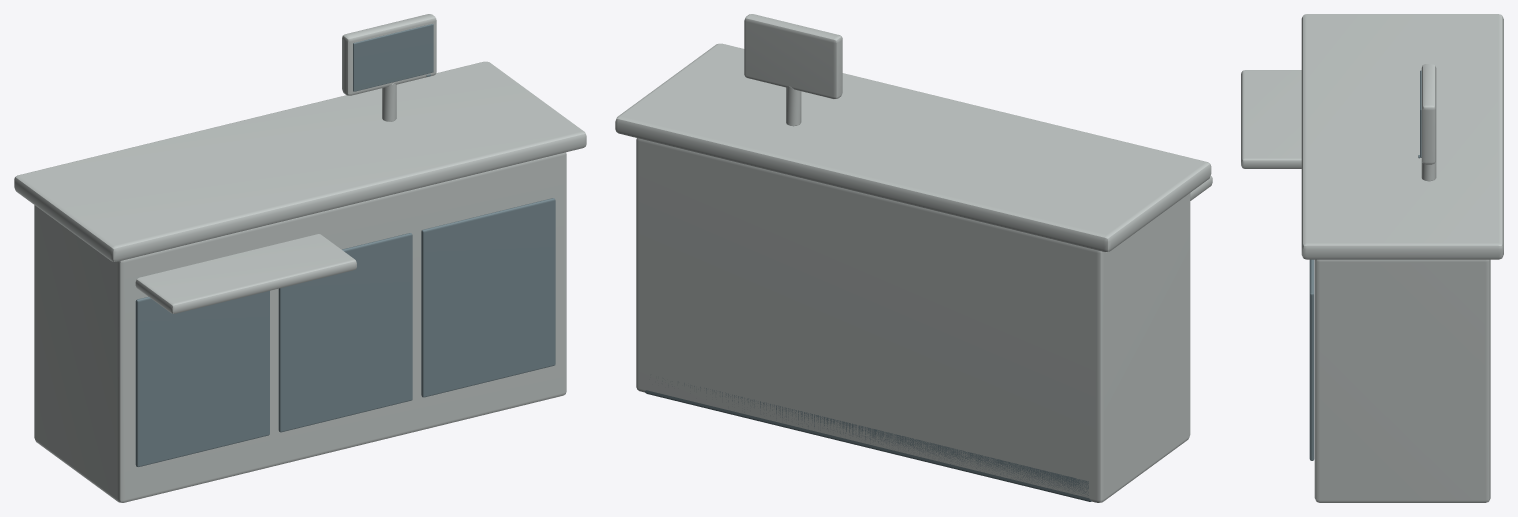
Rendered from reception-desk.glb.
3 renders of one model, left to right at view 1: azimuth 30°, elevation 25°; view 2: azimuth 150°, elevation 25°; view 3: azimuth 270°, elevation 25°, orthographic. The views are drawn at different scales.
Parts seen in each view (by area): view 1: counter_body, countertop, front_panel.002, front_panel.001, front_panel, writing_ledge, reception_screen_screen, reception_screen_housing; view 2: counter_body, countertop, reception_screen_housing, plinth; view 3: countertop, counter_body, writing_ledge, reception_screen_housing, front_panel.002.
Boxes of the visible parts, <box> form: counter_body: <box>34,152,566,502</box>; countertop: <box>14,61,586,261</box>; front_panel.002: <box>421,198,555,397</box>; front_panel.001: <box>278,233,412,432</box>; front_panel: <box>135,291,269,467</box>; writing_ledge: <box>135,234,356,313</box>; reception_screen_screen: <box>353,24,433,91</box>; reception_screen_housing: <box>342,14,436,95</box>; counter_body: <box>636,138,1190,502</box>; countertop: <box>615,43,1211,252</box>; reception_screen_housing: <box>744,14,842,99</box>; plinth: <box>645,378,1091,501</box>; countertop: <box>1301,14,1503,259</box>; counter_body: <box>1314,259,1490,502</box>; writing_ledge: <box>1241,70,1301,168</box>; reception_screen_housing: <box>1421,64,1436,164</box>; front_panel.002: <box>1309,259,1314,460</box>.
Size of the model in its own units: 2.1 by 1.51 by 1.
